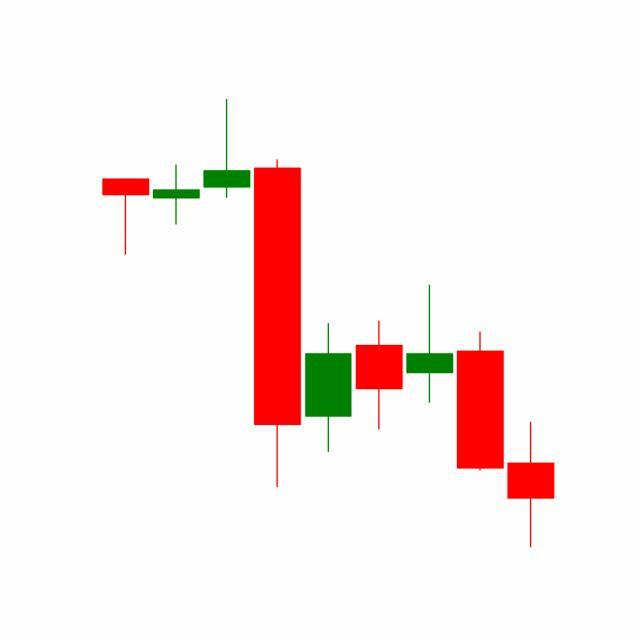Hikkake Pattern: (252, 156, 506, 492)
